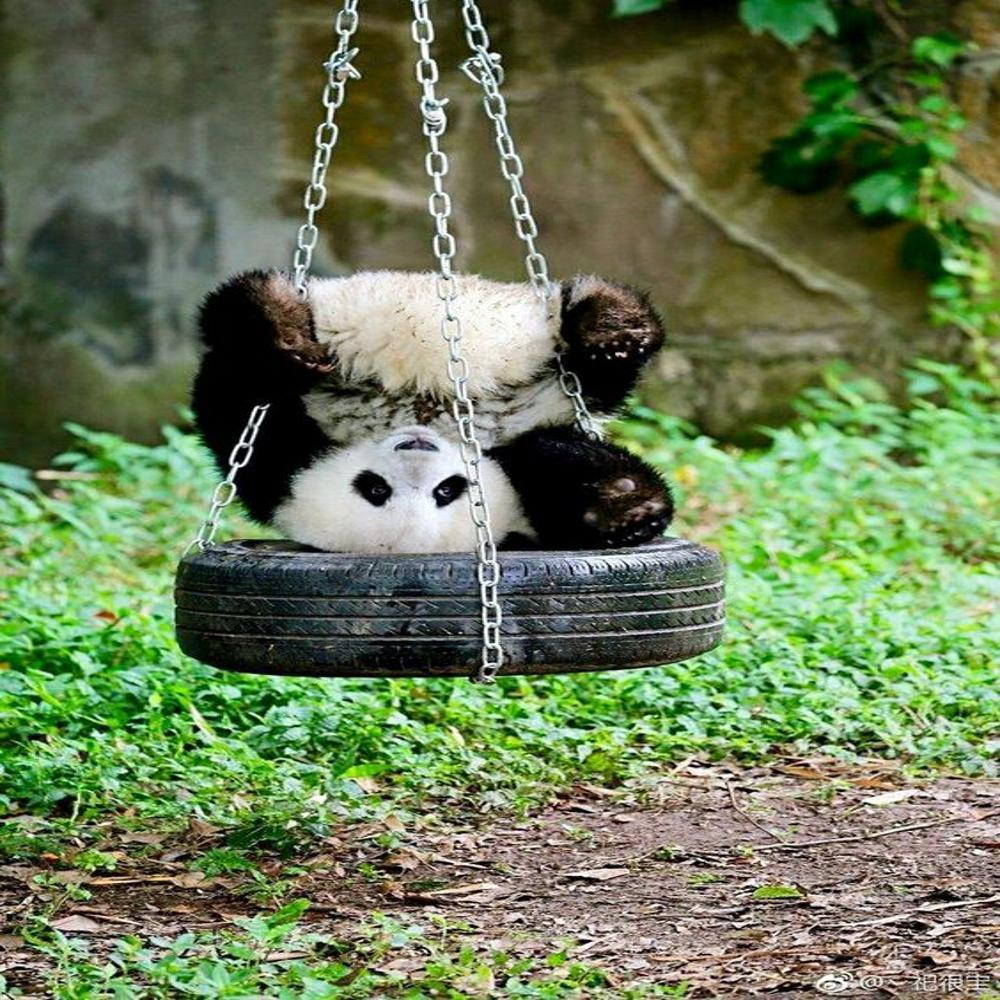panda: (186, 246, 695, 575)
